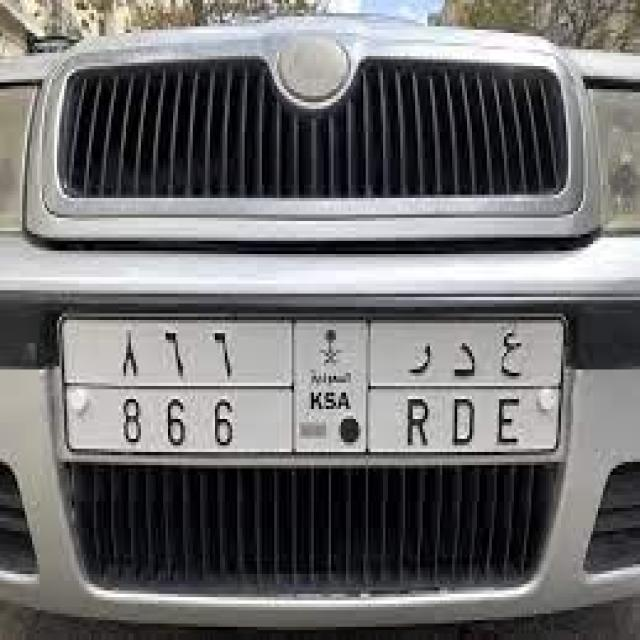license_plate: (74, 316, 558, 457)
